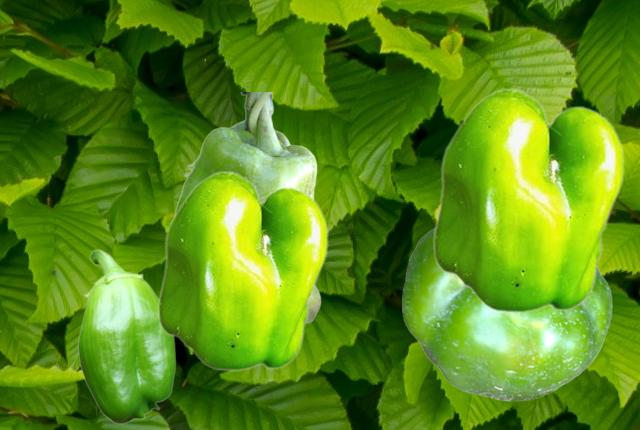bell_pepper: (432, 87, 623, 312), (402, 226, 611, 400), (157, 170, 327, 370), (174, 92, 320, 322), (77, 249, 175, 423)
